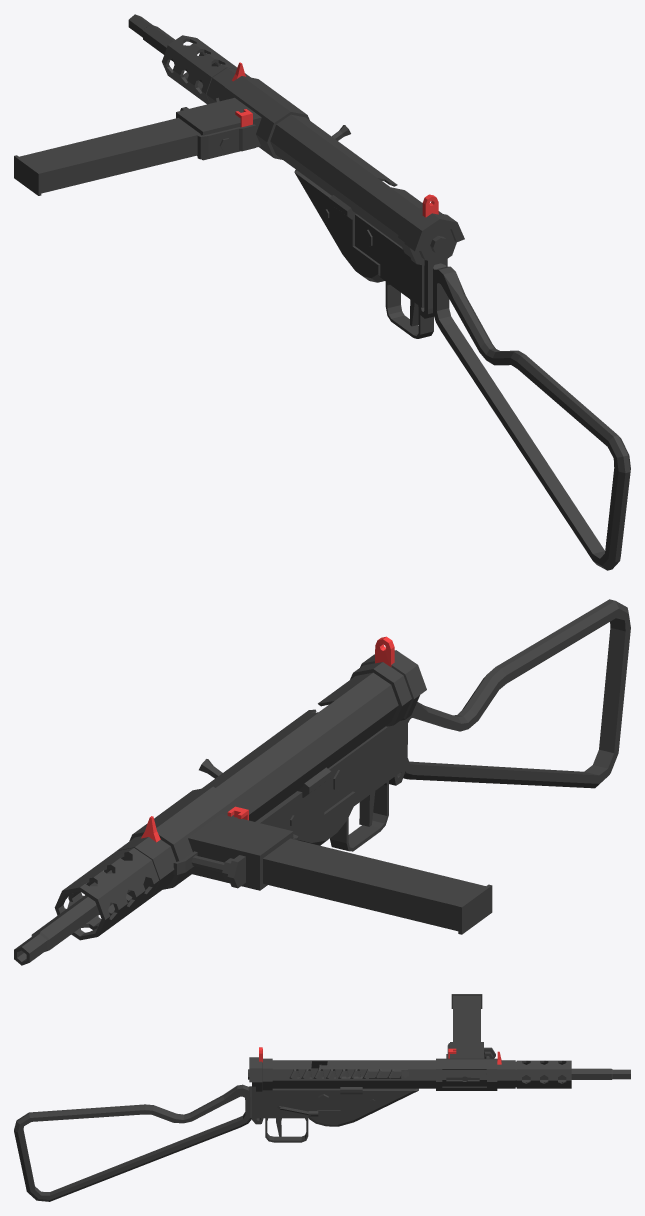
Rendered from subfusil_2.glb.
3 renders of one model, top to bottom at view 1: azimuth 30°, elevation 25°; view 2: azimuth 150°, elevation 25°; view 3: azimuth 270°, elevation 25°, orthographic. The views are drawn at different scales.
Visible parts, largest first — view 1: p1_paint, p51_paint, p10_paint, p33_paint, p4_paint, p17_paint, p8_paint, p15_paint, p42_paint, p0_paint; view 2: p1_paint, p51_paint, p10_paint, p8_paint, p33_paint, p4_paint, p17_paint, p0_paint, p42_paint, p9_paint, p5_paint; view 3: p1_paint, p51_paint, p33_paint, p17_paint, p4_paint, p10_paint, p7_paint, p0_paint, p8_paint, p42_paint.
Boxes of the visible parts, left/top/right/bottom form: p1_paint: left=162, top=35, right=464, bottom=265; p51_paint: left=433, top=263, right=630, bottom=570; p10_paint: left=19, top=118, right=200, bottom=193; p33_paint: left=355, top=214, right=447, bottom=318; p4_paint: left=220, top=76, right=309, bottom=159; p17_paint: left=294, top=169, right=384, bottom=282; p8_paint: left=176, top=97, right=261, bottom=160; p15_paint: left=197, top=124, right=255, bottom=159; p42_paint: left=385, top=282, right=433, bottom=338; p0_paint: left=128, top=14, right=201, bottom=82; p1_paint: left=54, top=650, right=426, bottom=940; p51_paint: left=403, top=599, right=630, bottom=788; p10_paint: left=263, top=838, right=485, bottom=931; p8_paint: left=188, top=813, right=293, bottom=890; p33_paint: left=324, top=720, right=405, bottom=811; p4_paint: left=129, top=786, right=235, bottom=889; p17_paint: left=255, top=783, right=355, bottom=845; p0_paint: left=14, top=889, right=130, bottom=965; p42_paint: left=330, top=781, right=388, bottom=851; p9_paint: left=458, top=884, right=492, bottom=934; p5_paint: left=191, top=855, right=245, bottom=888; p1_paint: left=248, top=1057, right=571, bottom=1091; p51_paint: left=14, top=1084, right=251, bottom=1201; p33_paint: left=252, top=1086, right=340, bottom=1124; p17_paint: left=308, top=1088, right=418, bottom=1126; p4_paint: left=436, top=1058, right=497, bottom=1090; p10_paint: left=453, top=995, right=480, bottom=1041; p7_paint: left=369, top=1069, right=486, bottom=1086; p0_paint: left=522, top=1068, right=630, bottom=1079; p8_paint: left=450, top=1042, right=483, bottom=1058; p42_paint: left=265, top=1118, right=308, bottom=1142.
Bounding box in the file's own units: 0.2441 × 0.2087 × 0.76.
